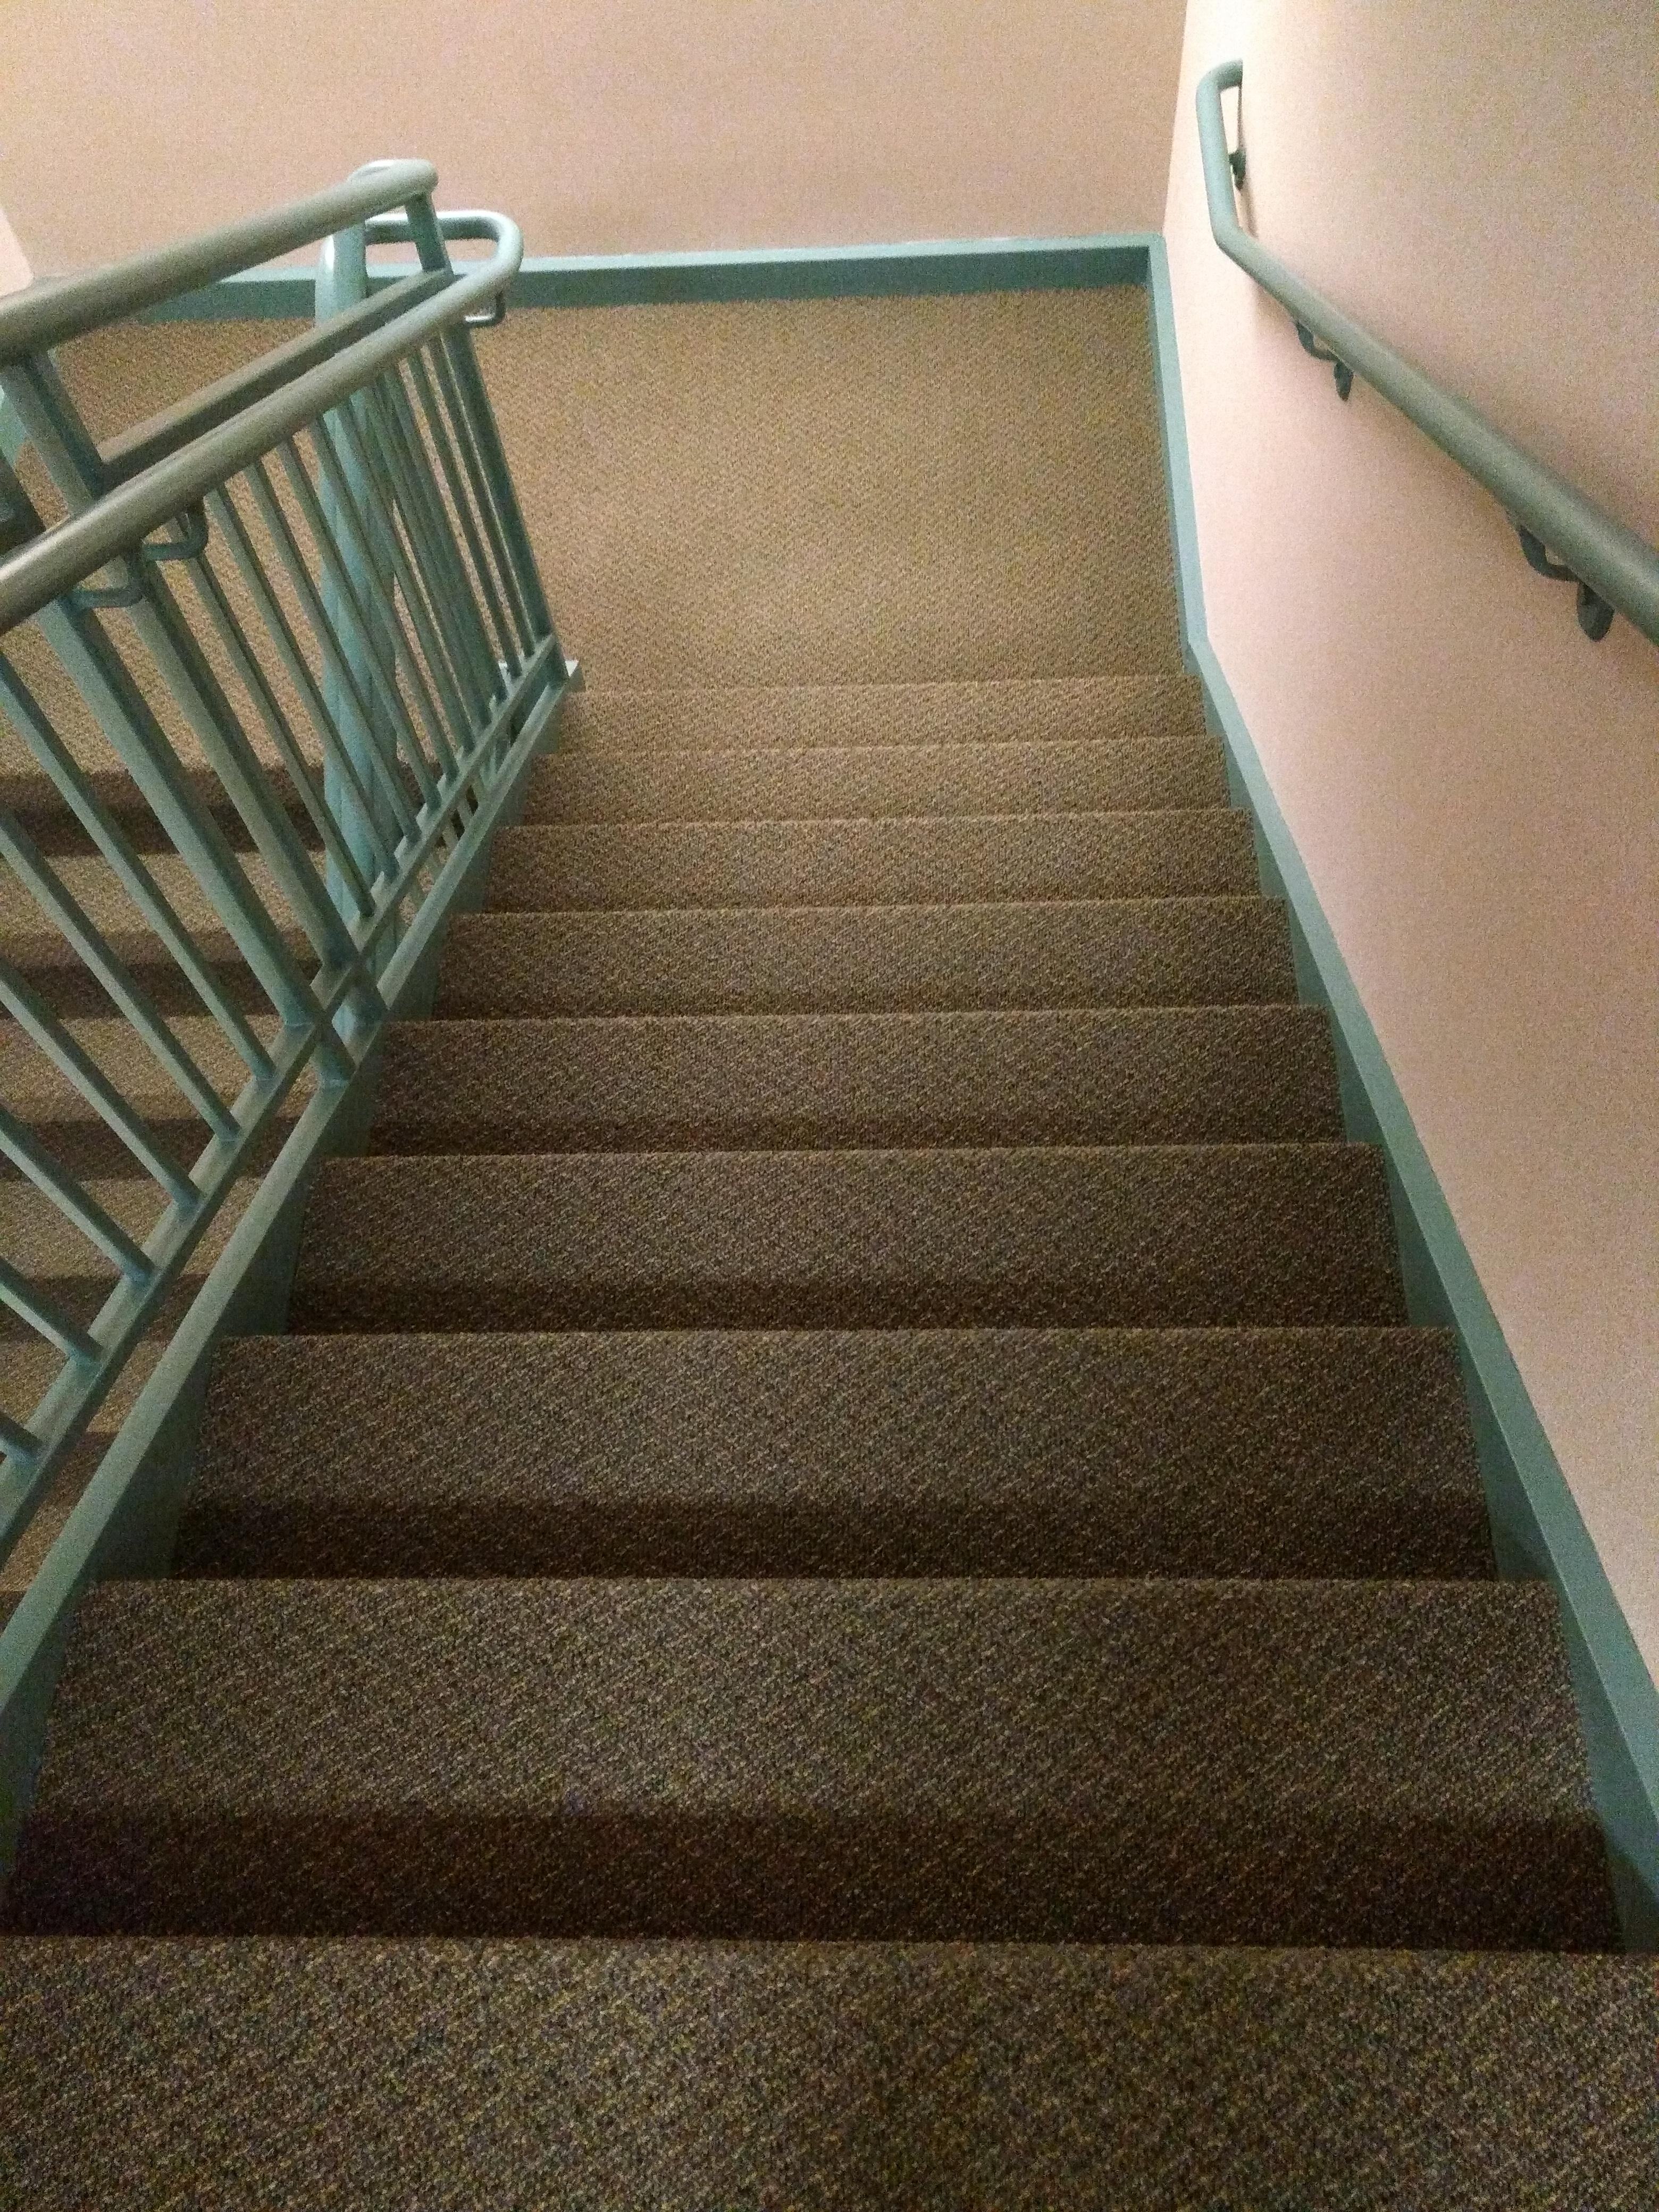stairs_down: (23, 674, 1635, 1980)
